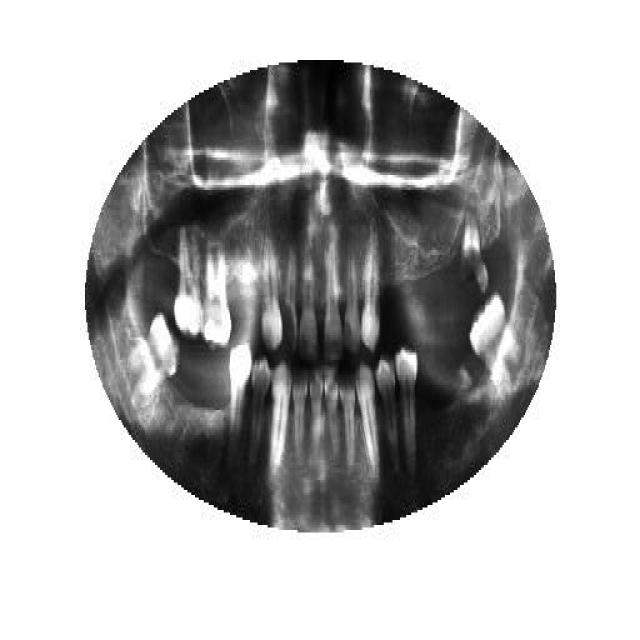Cavity: (461, 203, 490, 295), (281, 238, 300, 358)
Impacted Tooth: (468, 290, 528, 390), (129, 312, 180, 410)
